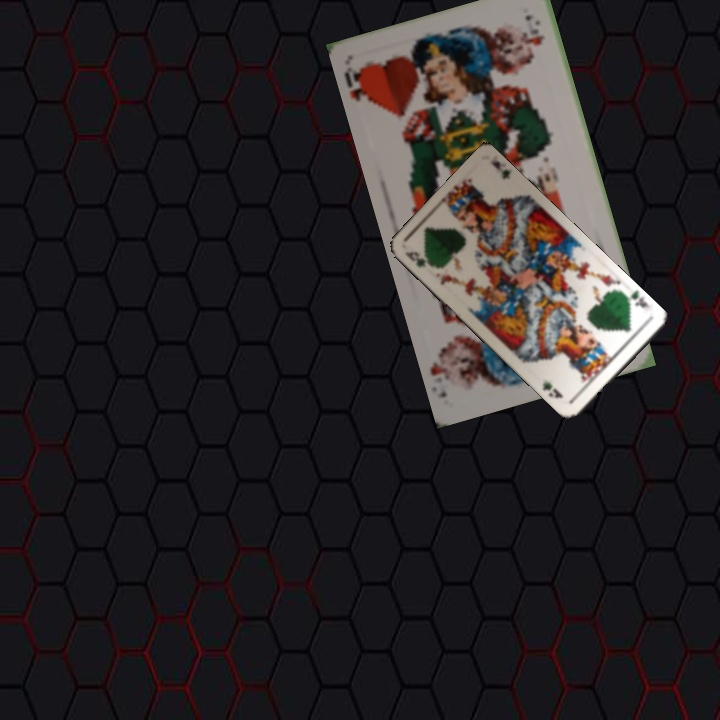GK: (401, 247, 437, 270), (620, 287, 652, 311)
HO: (341, 62, 378, 107)
